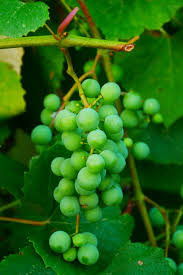grapes: (31, 70, 150, 275)
